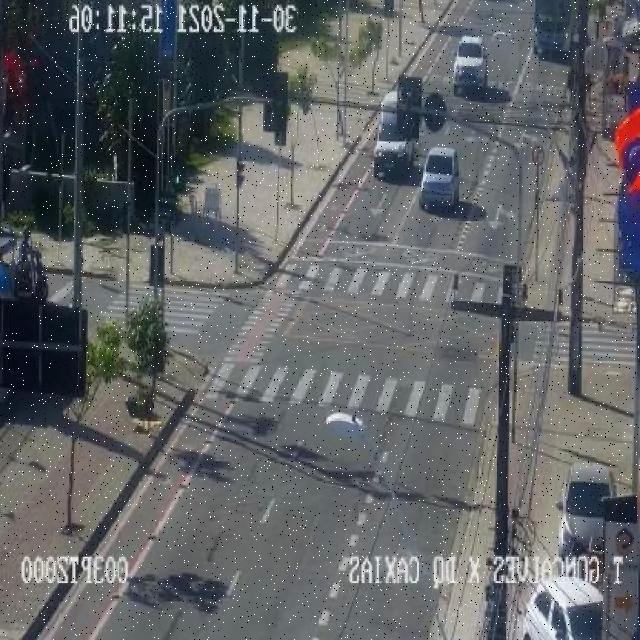Bus: (532, 1, 576, 61)
Car: (560, 462, 620, 557), (519, 576, 605, 638), (420, 147, 461, 210), (452, 36, 486, 94)
Van: (374, 89, 419, 178)
